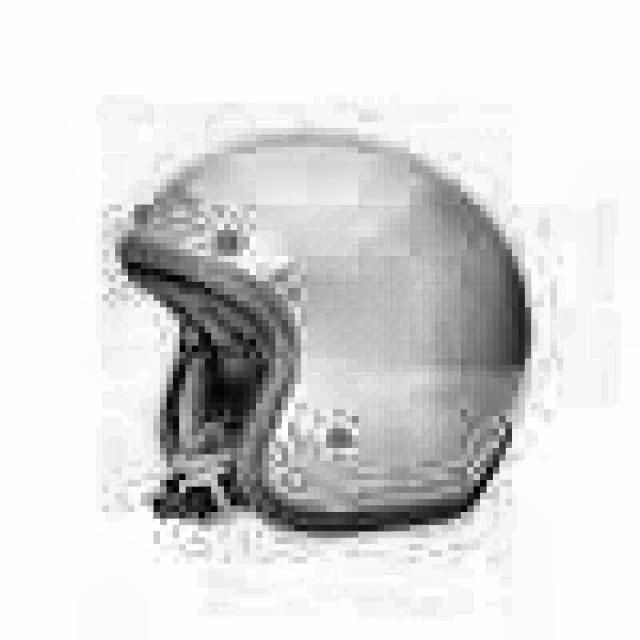Helmet: (107, 110, 547, 564)
